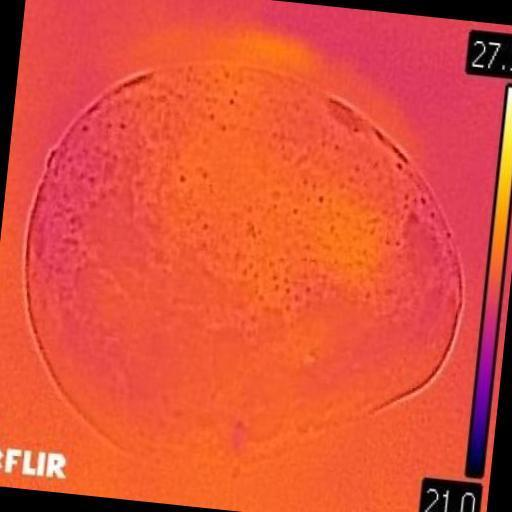alphanso: (26, 63, 462, 459)
